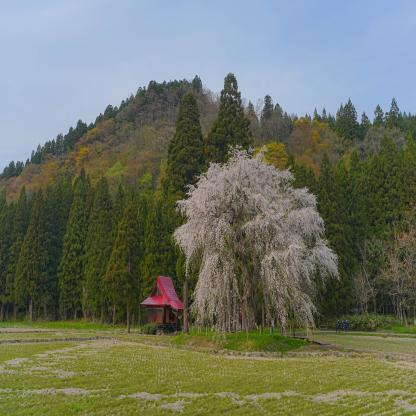ShidareZakura: (174, 139, 341, 346)
